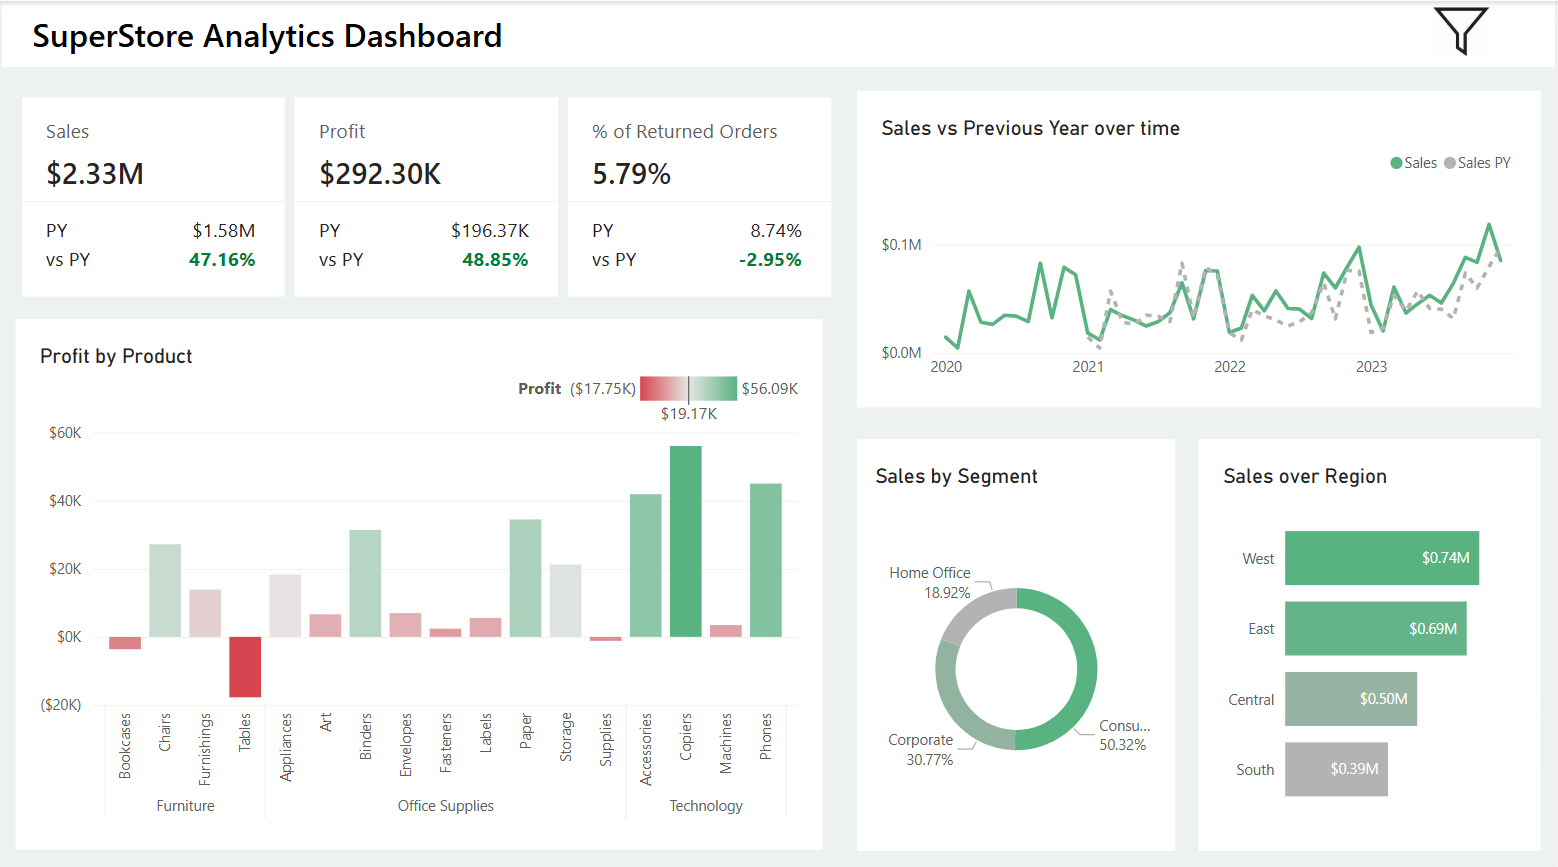

Layout of this report page (visuals, bound fields, positions):
{"tool":"powerbi","page":{"name":"Dashboard","canvas":[1280,720],"ordinal":0},"visuals":[{"type":"image","title":"filter","box":[1166.5,0,71.4,50.2],"z":0,"group":"g1"},{"type":"cardVisual","fields":{"Data":["Key Measures.Sales","Key Measures.Profit","Key Measures.% of returned Orders"]},"box":[10.6,74.2,678.4,174.1],"z":0},{"type":"shape","box":[0,0,1279.5,54.5],"z":1000},{"type":"lineChart","title":"Sales vs Previous Year over time","fields":{"Category":["Calender.Start of month"],"Y":["Key Measures.Sales","Key Measures.Sales PY"]},"box":[704.1,74.2,563.3,260.4],"z":2000},{"type":"columnChart","title":"Profit by Product","fields":{"Y":["Key Measures.Profit"],"Category":["Orders.Category","Orders.Sub-Category"]},"box":[10.6,262,664.7,437.6],"z":3000},{"type":"barChart","title":"Sales over Region","fields":{"Category":["Orders.Region"],"Y":["Key Measures.Sales"]},"box":[985.7,360.4,281.6,339.2],"z":4000},{"type":"donutChart","fields":{"Category":["Orders.Segment"],"Y":["Key Measures.Sales"]},"box":[704.1,360.4,262,339.2],"z":5000},{"type":"group","id":"g1","title":"slicer panel","box":[558,0,722,581.8],"z":6000}]}

Visuals, with their boxes in screenshot pixels (x1, y1, x2, y2), scaled from the page's 1280x720 canvas onto the 1558x867 screenshot:
"filter" image: {"x1": 1420, "y1": 0, "x2": 1507, "y2": 60}
cardVisual - Key Measures.Sales x Key Measures.Profit: {"x1": 13, "y1": 89, "x2": 839, "y2": 299}
shape: {"x1": 0, "y1": 0, "x2": 1557, "y2": 66}
"Sales vs Previous Year over time" lineChart: {"x1": 857, "y1": 89, "x2": 1543, "y2": 403}
"Profit by Product" columnChart: {"x1": 13, "y1": 315, "x2": 822, "y2": 842}
"Sales over Region" barChart: {"x1": 1200, "y1": 434, "x2": 1543, "y2": 842}
donutChart - Orders.Segment x Key Measures.Sales: {"x1": 857, "y1": 434, "x2": 1176, "y2": 842}
"slicer panel" group: {"x1": 679, "y1": 0, "x2": 1557, "y2": 701}
